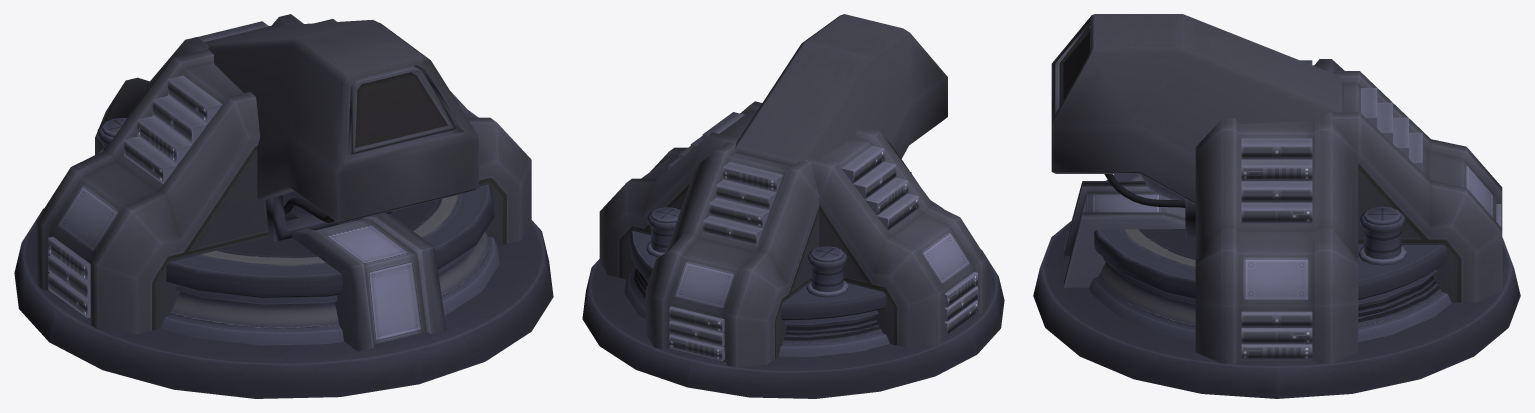
File: Research Model.fbx
3 views of the same model, side by side, from view 1: azimuth 30°, elevation 25°; view 2: azimuth 150°, elevation 25°; view 3: azimuth 270°, elevation 25° (orthographic). The views are drawn at different scales.
Parts seen in each view (by area): view 1: polySurface224; view 2: polySurface224; view 3: polySurface224.
Part boxes in pixels (x1,y1,x2,y2): polySurface224: (14,14,553,398); polySurface224: (582,14,1004,398); polySurface224: (1033,14,1520,398).
Size of the model in its own units: 2.99 by 1.79 by 2.99.
